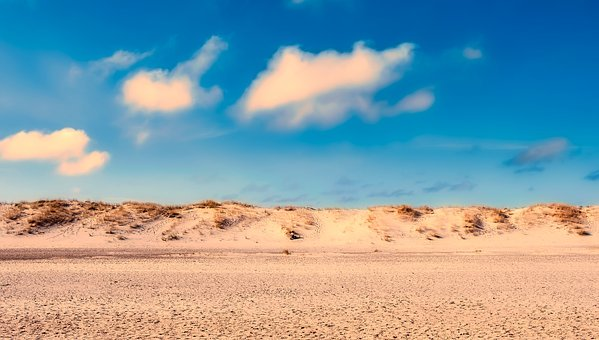ground: (3, 199, 599, 338)
sky: (1, 1, 595, 203)
